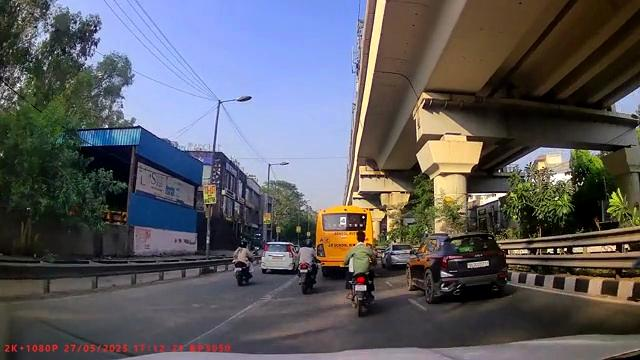motorcycle_without_helmet: (345, 230, 378, 318)
